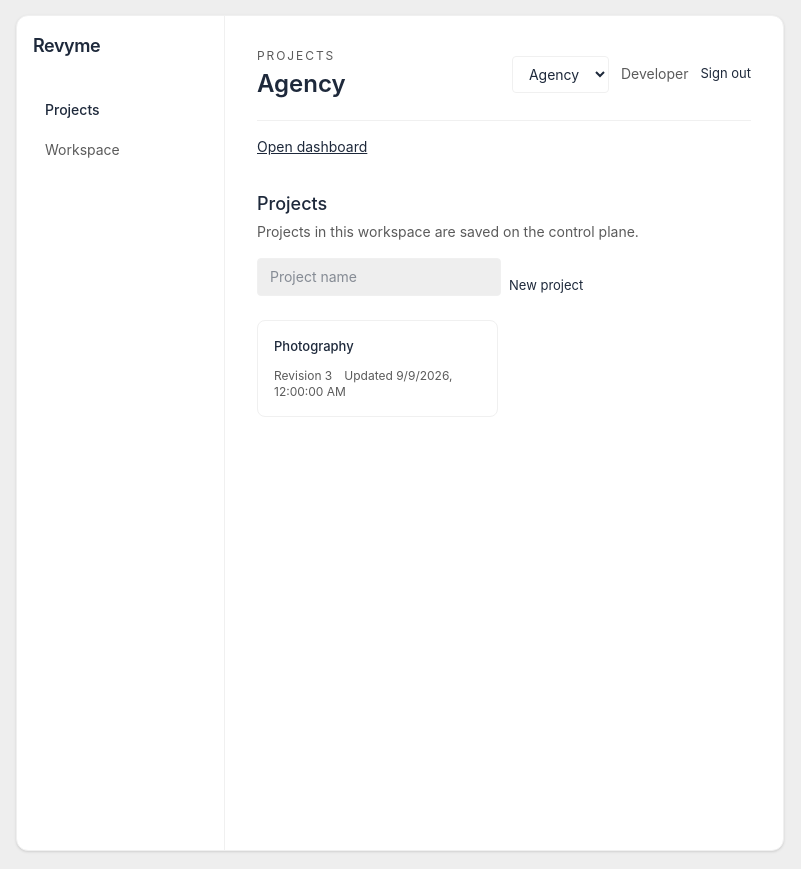
Test case: self-hosted project entry › switches between server-provided workspaces
Expected: the link with aria-label "Open Photography" is shown, [274, 338, 354, 354]
Select "Client" in the dropdown named "Current workspace" at (560, 74), box [512, 56, 609, 92]
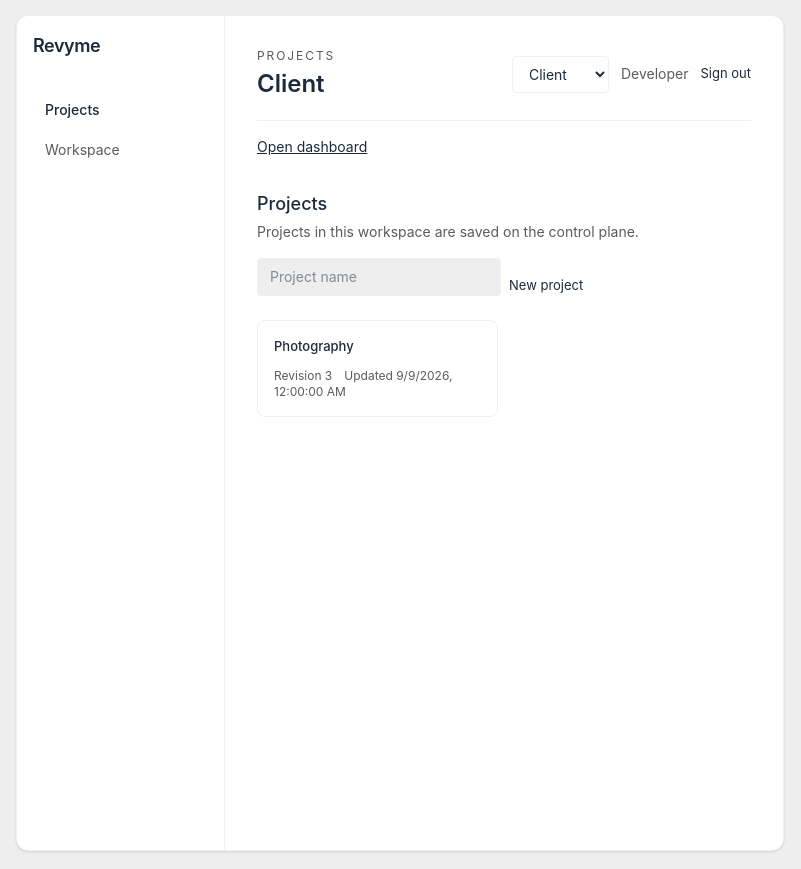
Expected: the heading "Client" is shown, [257, 68, 335, 100]
